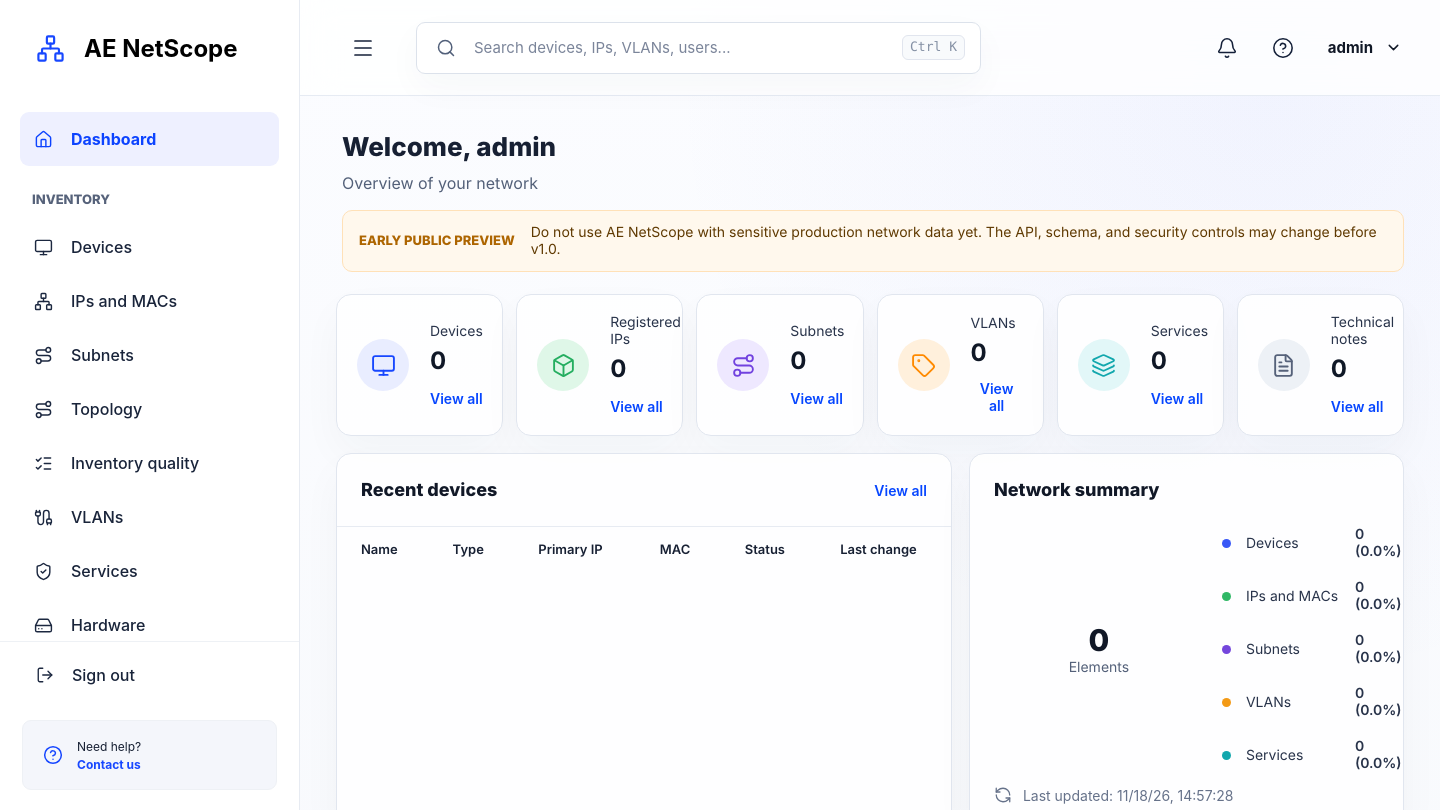
Test case: App navigation and account boundaries › says so when signing out could not reach the server
Click the button "Sign out": (150, 675) [22,648,277,702]
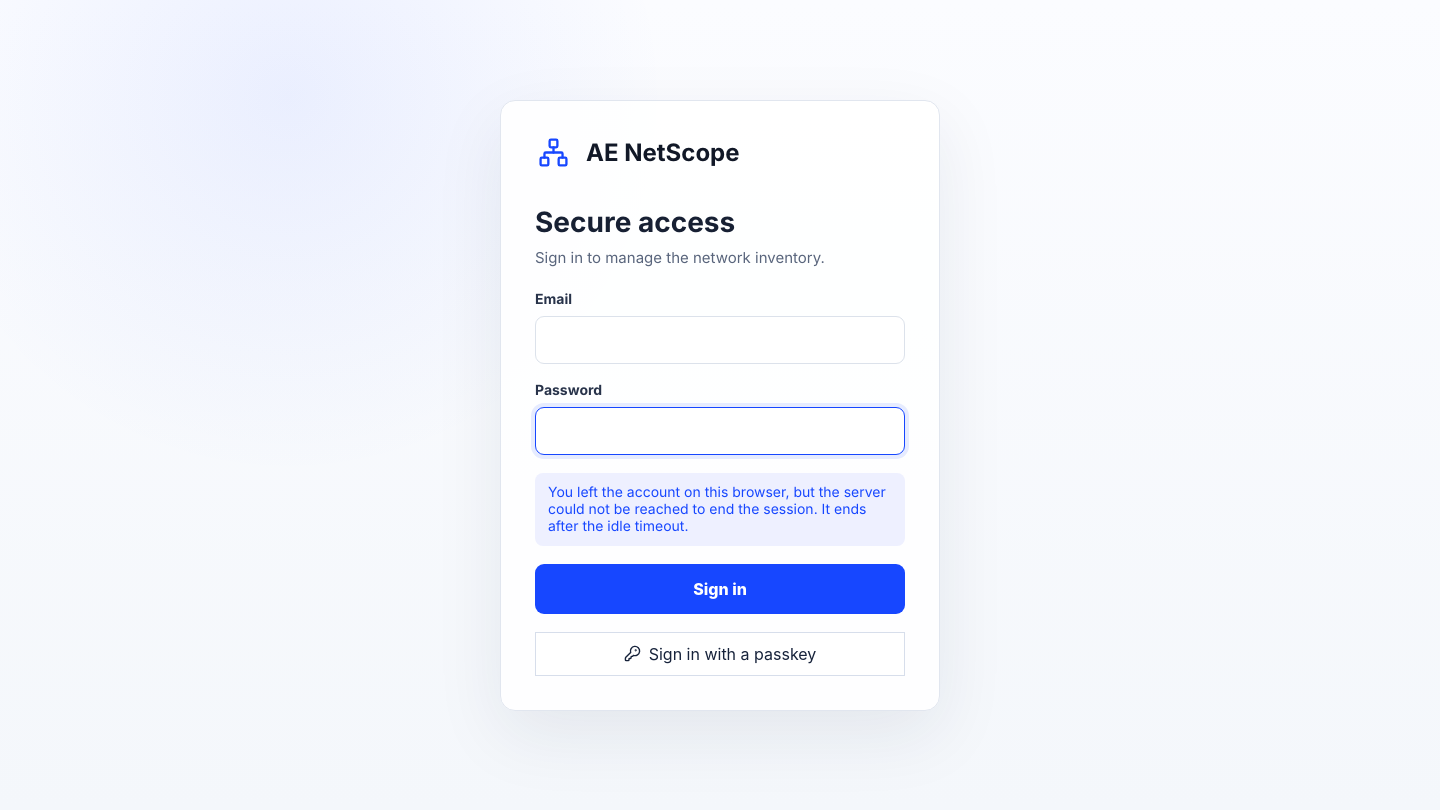
Now the text "the server could not be reached to end the session" is shown, box [548,484,886,534]
